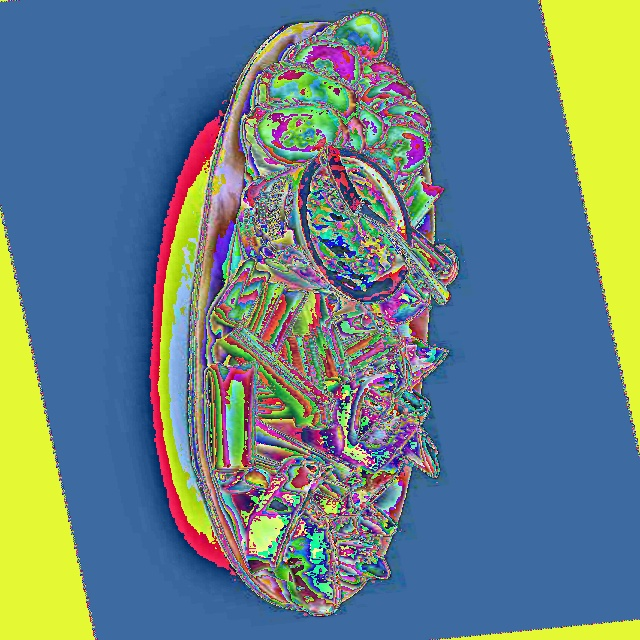background: (210, 256, 451, 616), (211, 10, 454, 276), (55, 70, 397, 230), (93, 127, 399, 289)
